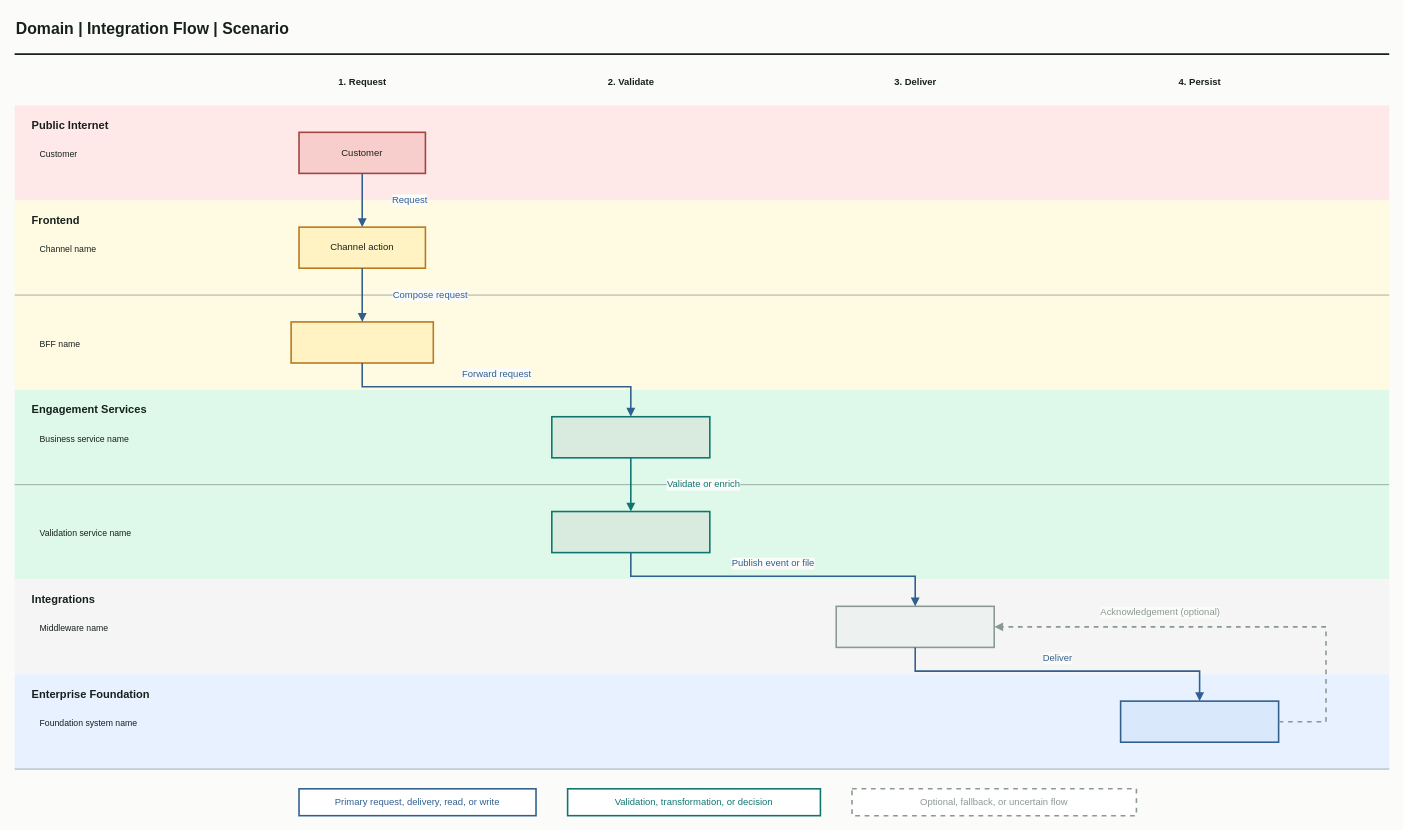
Some shapes in this 1403 by 830 pixel diagram are drawn without their labels. Here are the shapes that lost their labels. From the top down, the centre of each, then its label:
At pixel 362 342: "Backend-for-Frontend".
At pixel 630 437: "Business service".
At pixel 630 531: "Validation service".
At pixel 915 626: "Integration component".
At pixel 1199 721: "Foundation API or store".
